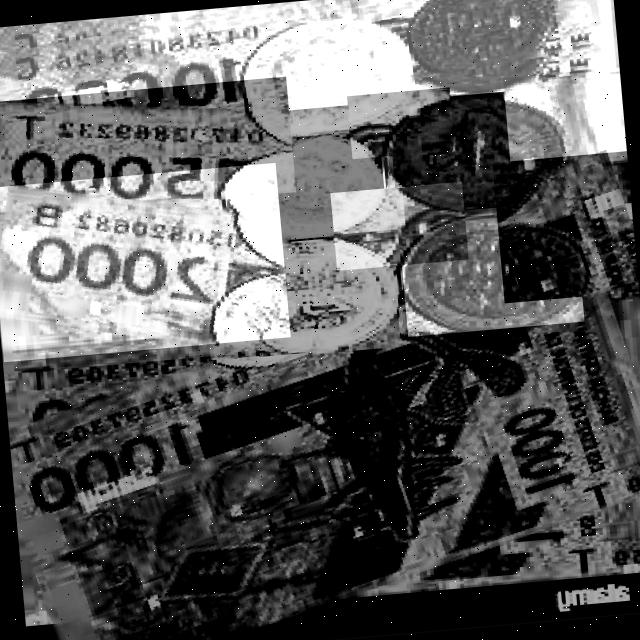fukk: (412, 0, 547, 88)
junni: (0, 101, 292, 199), (504, 68, 627, 162), (350, 91, 449, 156)
juroom derem: (390, 97, 560, 207)
juroom fukk: (227, 240, 395, 352)
niaar junni: (0, 0, 614, 132)
niaar teemeer: (8, 231, 640, 640)
niaari fukk: (242, 19, 403, 136)
nient fukk: (227, 134, 382, 237)
nient teemeer: (0, 185, 284, 344), (497, 152, 638, 295), (334, 189, 464, 265)
teemeer: (401, 217, 577, 331)
